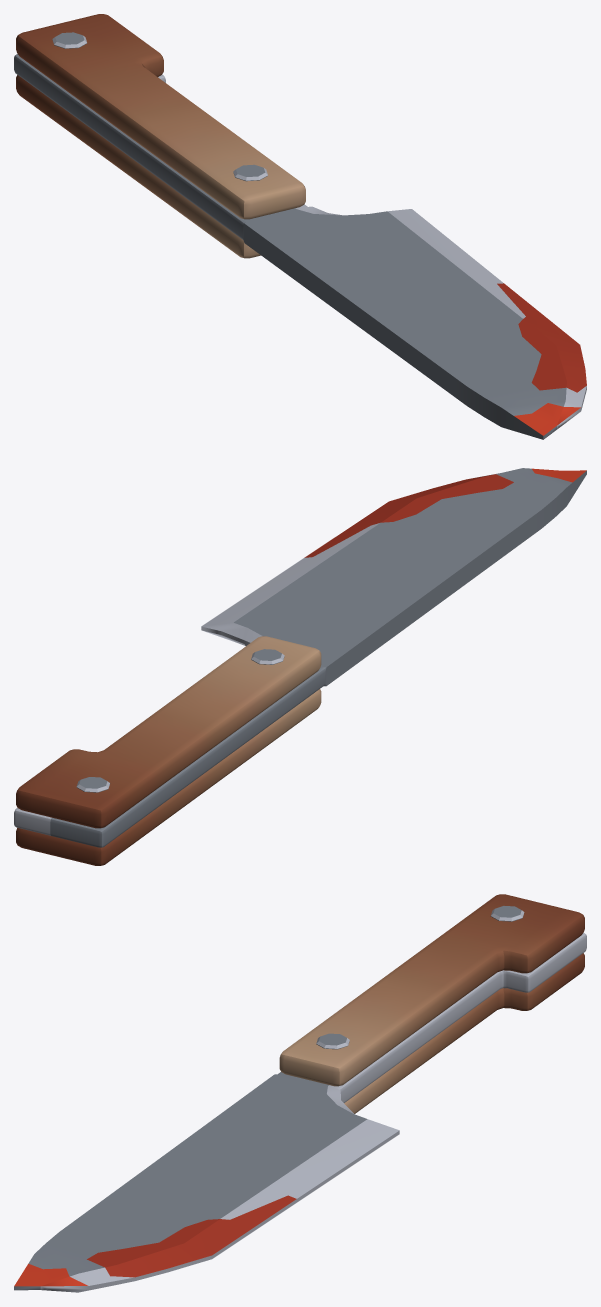
The model's file is BloodyKnife.fbx.
3 renders of one model, top to bottom at view 1: azimuth 30°, elevation 25°; view 2: azimuth 150°, elevation 25°; view 3: azimuth 330°, elevation 25°, orthographic. The views are drawn at different scales.
Visible parts, largest first — view 1: pCylinder3; view 2: pCylinder3; view 3: pCylinder3.
Boxes of the visible parts, x1,y1,x2,y2 form: pCylinder3: (14, 14, 586, 439); pCylinder3: (14, 468, 586, 865); pCylinder3: (14, 894, 586, 1292).
Size of the model in its own units: 2.22 by 0.9798 by 13.35.
Materials: 1 (1 with a texture image).
